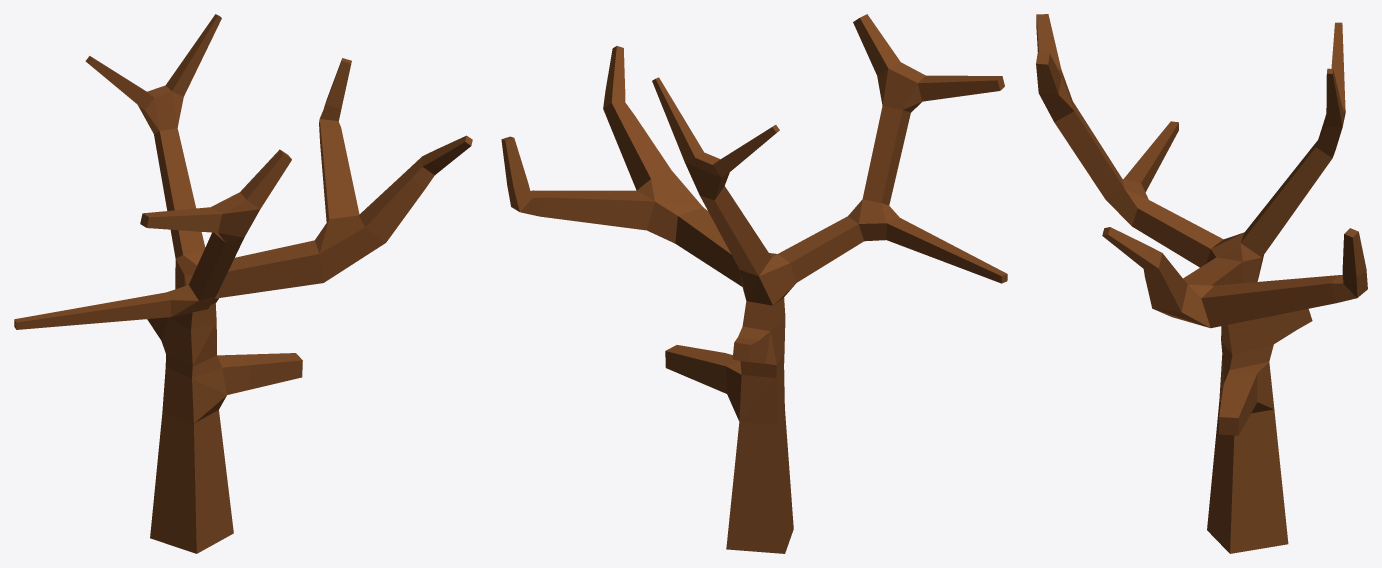
3 views of the same model, side by side, from view 1: azimuth 30°, elevation 25°; view 2: azimuth 150°, elevation 25°; view 3: azimuth 270°, elevation 25° (orthographic). The views are drawn at different scales.
Visible parts, largest first — view 1: 큐브.011; view 2: 큐브.011; view 3: 큐브.011.
Boxes of the visible parts, box(x1,y1,x2,y2) form: 큐브.011: box(14, 14, 472, 553); 큐브.011: box(501, 14, 1007, 553); 큐브.011: box(1036, 14, 1367, 553).
Bounding box in the file's own units: 2303 × 2459 × 1475.
